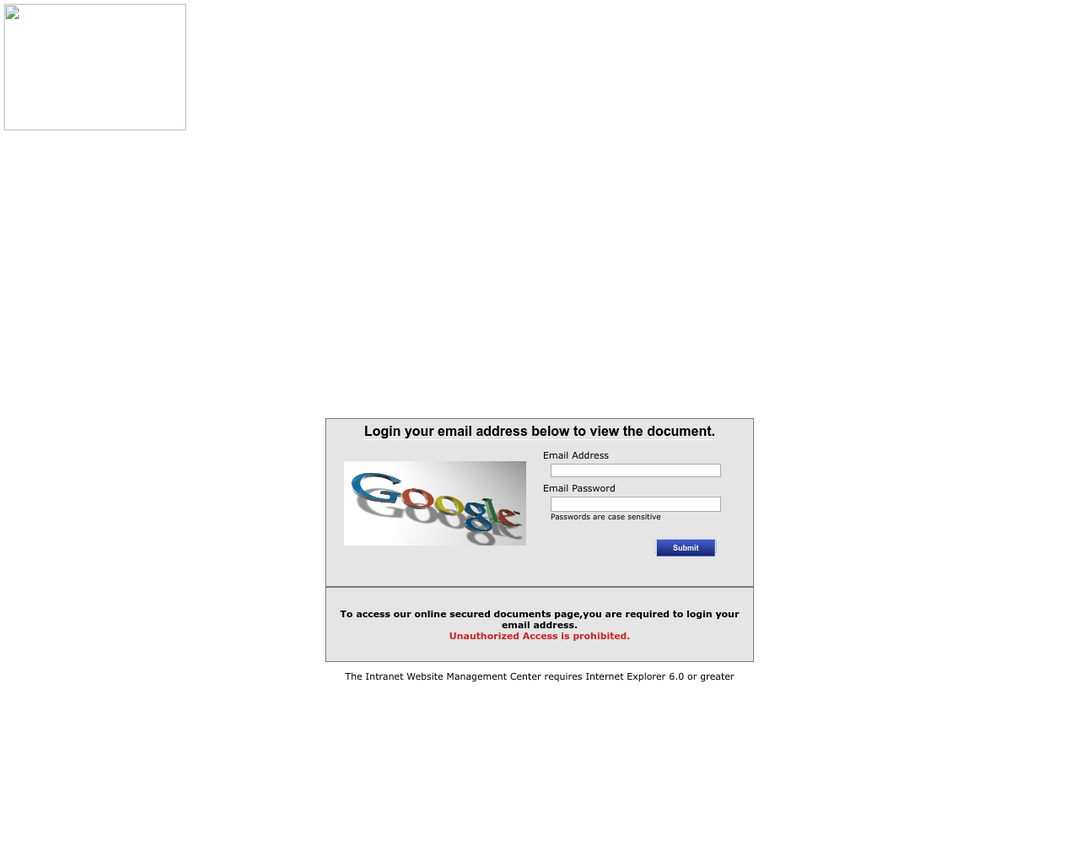Google: (350, 471, 529, 541)
